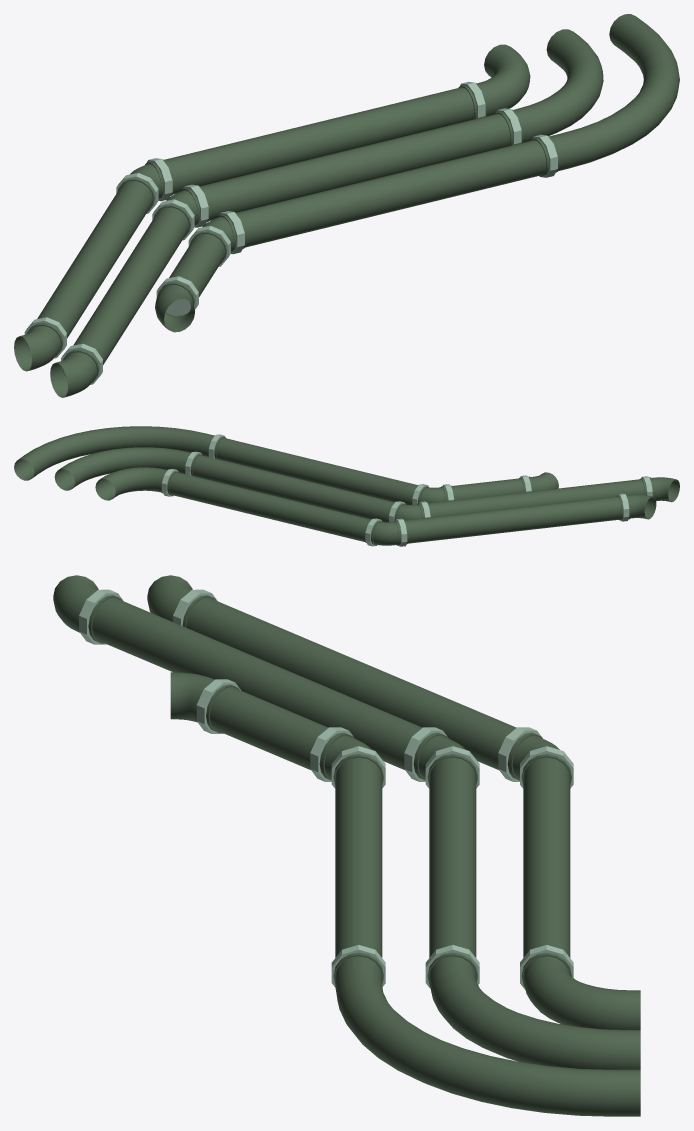
File: PipeComplexLarge_A1_18.fbx
3 renders of one model, top to bottom at view 1: azimuth 30°, elevation 25°; view 2: azimuth 150°, elevation 25°; view 3: azimuth 270°, elevation 25°, orthographic. The views are drawn at different scales.
Parts seen in each view (by area): view 1: PipeComplexLarge_A1_18.001; view 2: PipeComplexLarge_A1_18.001; view 3: PipeComplexLarge_A1_18.001.
Part boxes in pixels (bbox=[...]): PipeComplexLarge_A1_18.001: bbox=[14, 14, 679, 397]; PipeComplexLarge_A1_18.001: bbox=[14, 426, 679, 546]; PipeComplexLarge_A1_18.001: bbox=[53, 575, 640, 1116].
Bounding box in the file's own units: 5.1 × 0.2411 × 2.5.
